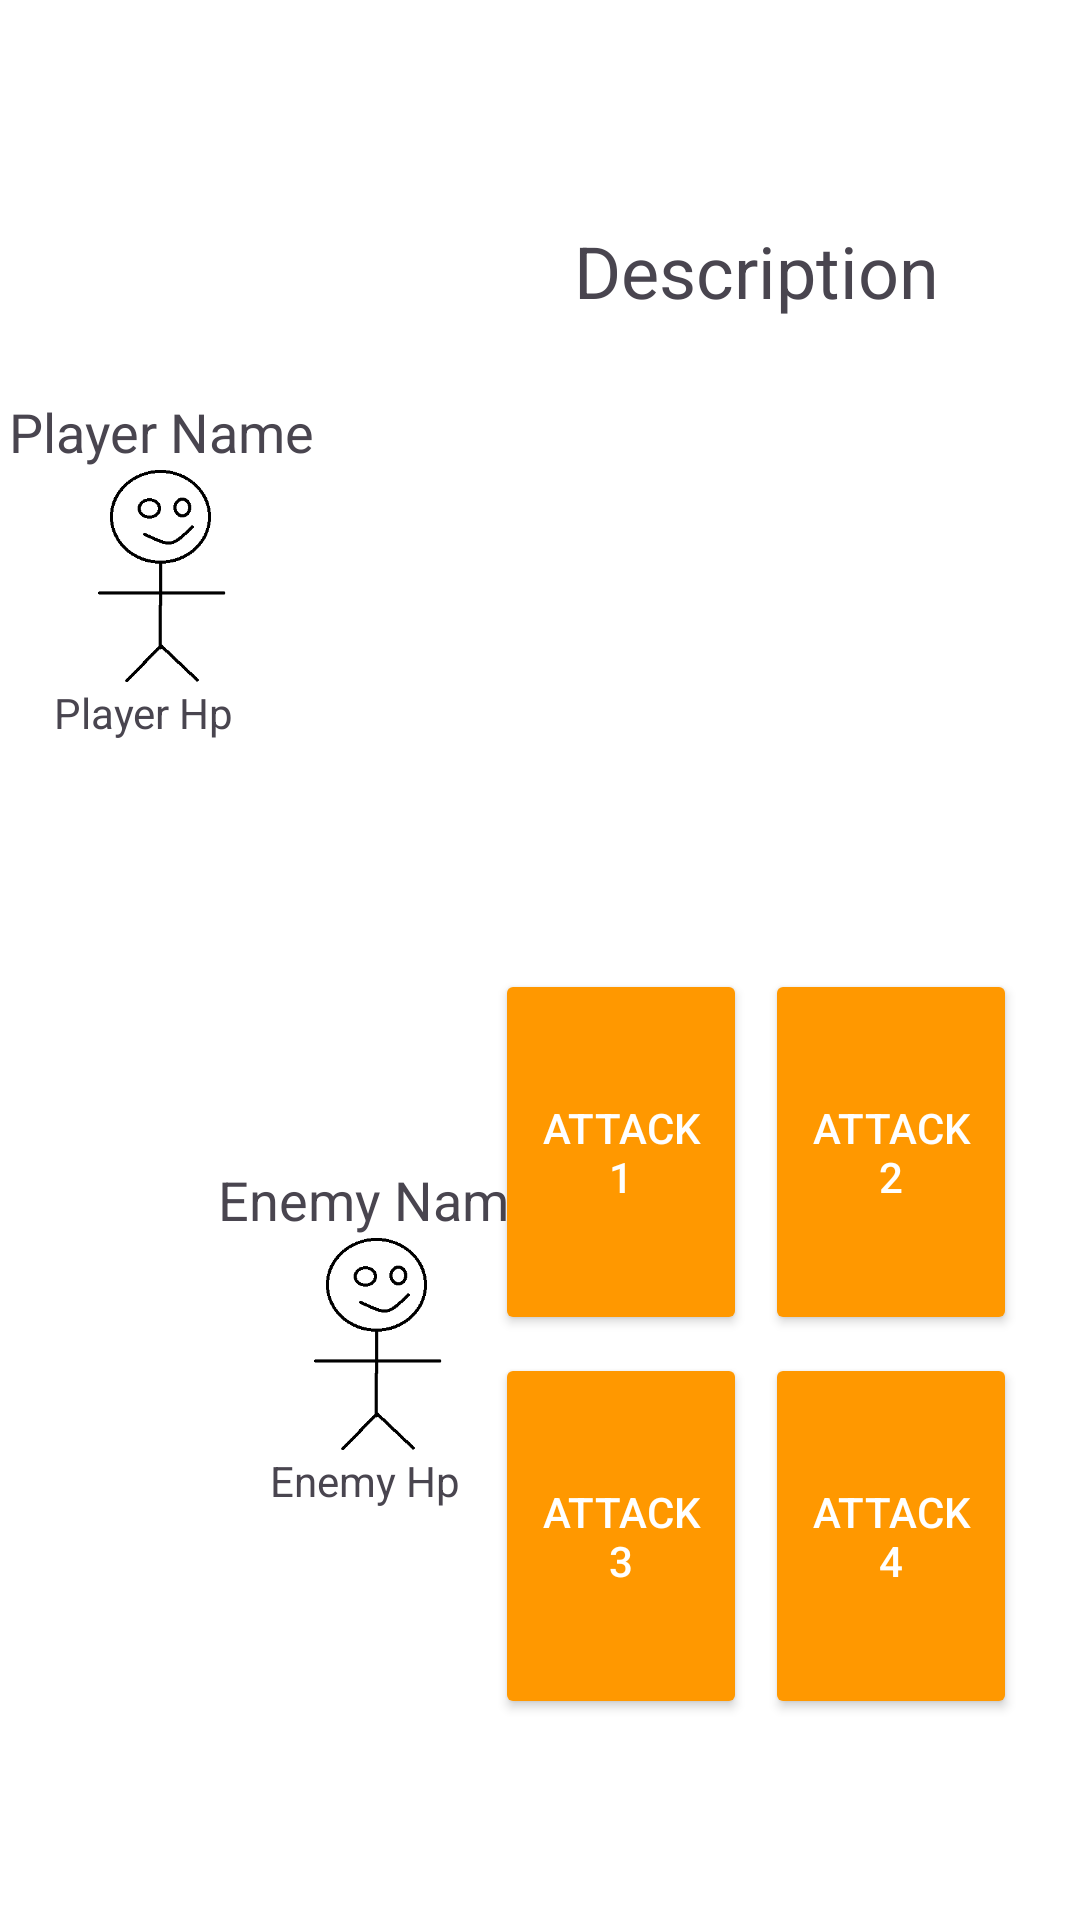

Point at icon controls on the screen. Image size 1080w x 1920h, points as (x=x, y=y).
im person: (x=162, y=576), (x=378, y=1344)
